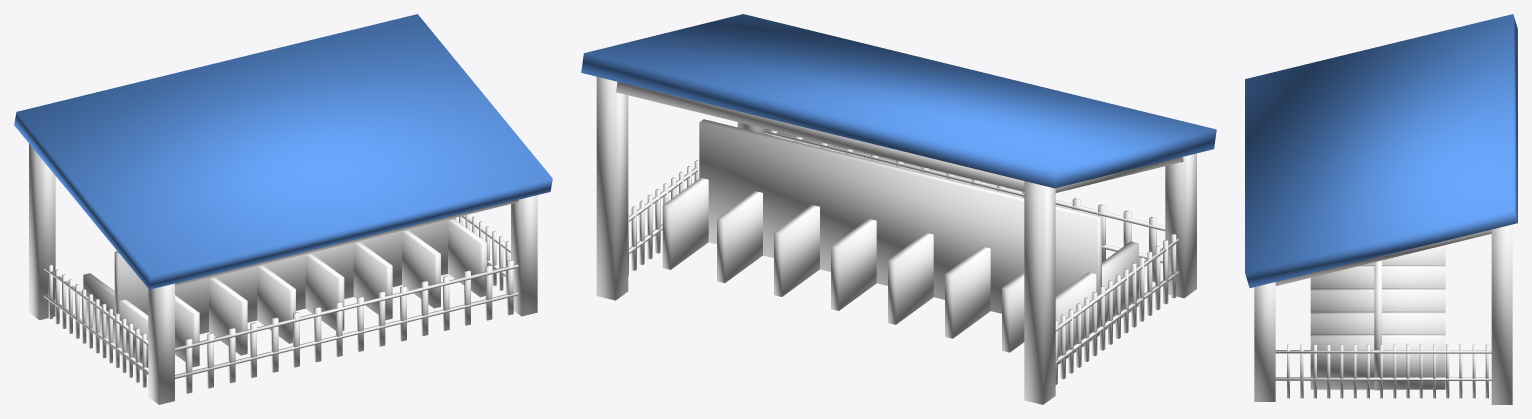
File: shvc_2f_mini.gltf
3 renders of one model, left to right at view 1: azimuth 30°, elevation 25°; view 2: azimuth 150°, elevation 25°; view 3: azimuth 270°, elevation 25°, orthographic. The views are drawn at different scales.
Visible parts, largest first — view 1: sh_waiguan_16, sh_waiguan_7, sh_waiguan_10, sh_waiguan_8, sh_waiguan_9, sh_waiguan_17, sh_waiguan_2, sh_waiguan_5, sh_waiguan_4, sh_waiguan_6, sh_waiguan, sh_waiguan_3 (+5 smaller); view 2: sh_waiguan_16, sh_waiguan_7, sh_waiguan_11, sh_waiguan_10, sh_waiguan_15, sh_waiguan_8, sh_waiguan_6, sh_waiguan_2, sh_waiguan, sh_waiguan_4, sh_waiguan_5, sh_waiguan_3 (+6 smaller); view 3: sh_waiguan_16, sh_waiguan_6, sh_waiguan_11, sh_waiguan_4, sh_waiguan_5, sh_waiguan, sh_waiguan_9, sh_waiguan_12, sh_waiguan_7, sh_waiguan_3, sh_waiguan_34, sh_waiguan_35.
Boxes of the visible parts, box(x1,y1,x2,y2) form: sh_waiguan_16: box(14, 14, 552, 289); sh_waiguan_7: box(114, 217, 455, 351); sh_waiguan_10: box(29, 144, 55, 320); sh_waiguan_8: box(148, 283, 174, 404); sh_waiguan_9: box(511, 195, 537, 316); sh_waiguan_17: box(83, 273, 148, 374); sh_waiguan_2: box(209, 277, 247, 355); sh_waiguan_5: box(402, 230, 440, 308); sh_waiguan_4: box(353, 242, 392, 320); sh_waiguan_6: box(448, 219, 486, 297); sh_waiguan: box(305, 254, 344, 330); sh_waiguan_3: box(257, 266, 295, 343); sh_waiguan_16: box(581, 14, 1216, 188); sh_waiguan_7: box(699, 119, 1101, 336); sh_waiguan_11: box(596, 77, 628, 300); sh_waiguan_10: box(1024, 181, 1055, 404); sh_waiguan_15: box(616, 81, 1024, 191); sh_waiguan_8: box(1165, 153, 1196, 298); sh_waiguan_6: box(662, 178, 708, 269); sh_waiguan_2: box(945, 246, 990, 338); sh_waiguan: box(831, 219, 876, 310); sh_waiguan_4: box(774, 205, 819, 296); sh_waiguan_5: box(717, 191, 762, 282); sh_waiguan_3: box(888, 233, 933, 324); sh_waiguan_16: box(1245, 14, 1517, 287); sh_waiguan_6: box(1310, 334, 1445, 389); sh_waiguan_11: box(1491, 224, 1512, 404); sh_waiguan_4: box(1310, 288, 1445, 311); sh_waiguan_5: box(1310, 311, 1445, 333); sh_waiguan: box(1310, 265, 1445, 288); sh_waiguan_9: box(1254, 282, 1275, 401); sh_waiguan_12: box(1275, 229, 1491, 285); sh_waiguan_7: box(1374, 260, 1381, 390); sh_waiguan_3: box(1364, 245, 1445, 264); sh_waiguan_34: box(1275, 350, 1491, 353); sh_waiguan_35: box(1275, 377, 1491, 380).
Size of the model in its own units: 134 by 64.73 by 79.26.
